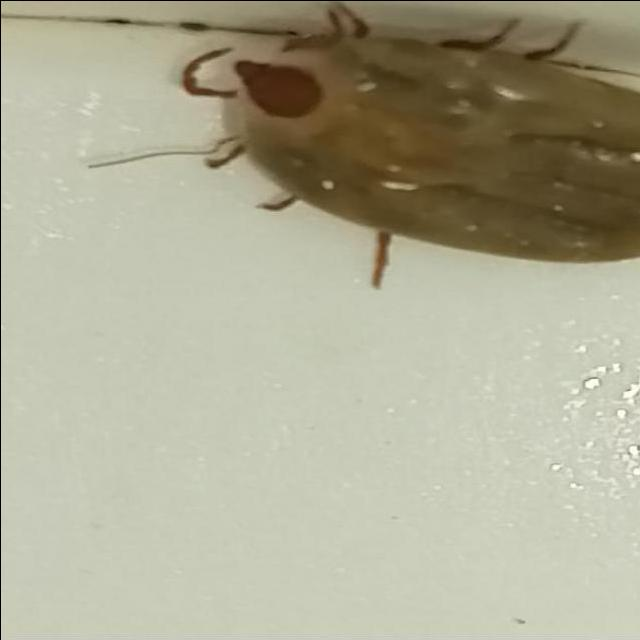Rhipicephalus Sanguineus-F-Fed: (184, 1, 640, 290)
